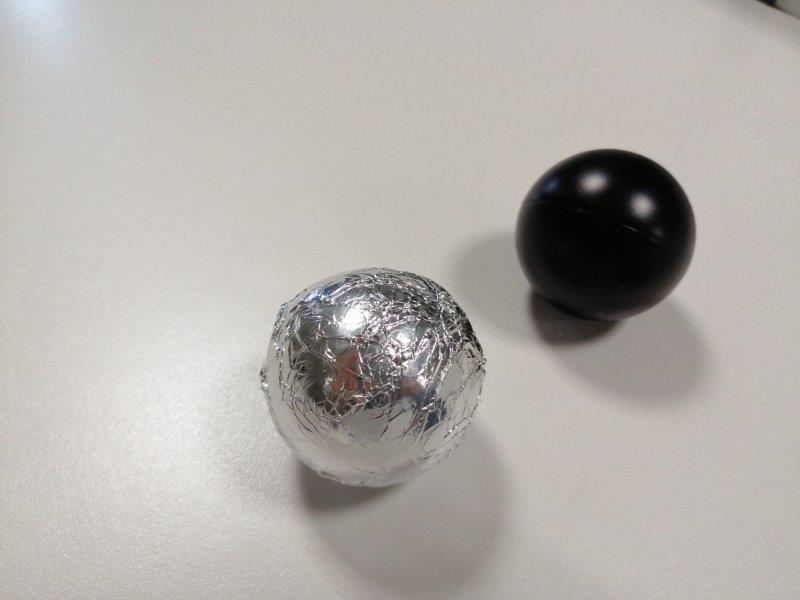bianca: (260, 268, 487, 489)
nera: (516, 145, 696, 325)
